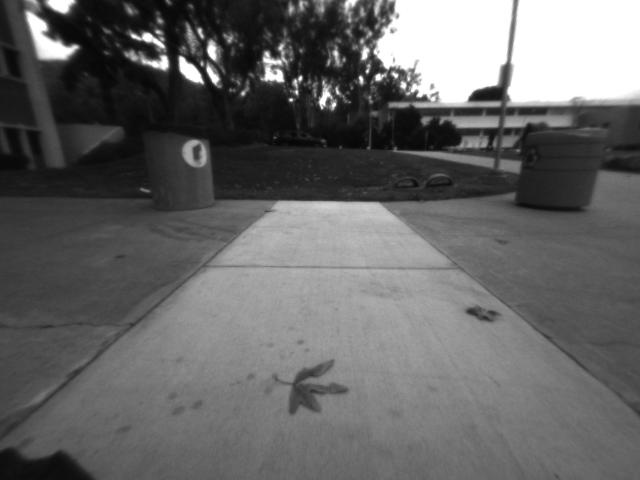trashcan: (513, 110, 613, 222), (132, 113, 228, 222)
